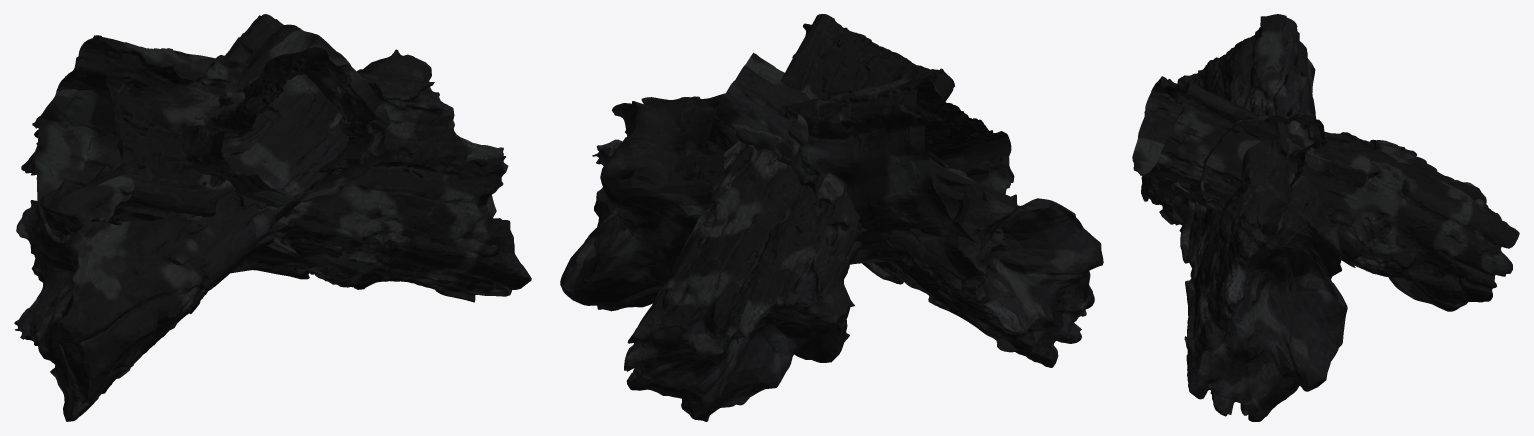
Rendered from carbon_vegetal_v011_ceniza_sutil_candidato.glb.
The picture shows the model from 3 angles, left to right: view 1: azimuth 30°, elevation 25°; view 2: azimuth 150°, elevation 25°; view 3: azimuth 270°, elevation 25°; orthographic projection. The views are drawn at different scales.
Visible parts, largest first — view 1: 01_carbon_base, 03_carbon_diagonal, 02_carbon_cross; view 2: 02_carbon_cross, 01_carbon_base, 03_carbon_diagonal; view 3: 01_carbon_base, 02_carbon_cross, 03_carbon_diagonal.
Boxes of the visible parts, x1,y1,x2,y2 form: 01_carbon_base: [34, 35, 531, 302]; 03_carbon_diagonal: [14, 14, 390, 421]; 02_carbon_cross: [21, 47, 385, 207]; 02_carbon_cross: [624, 14, 954, 421]; 01_carbon_base: [560, 75, 1014, 311]; 03_carbon_diagonal: [704, 52, 1103, 367]; 01_carbon_base: [1177, 14, 1347, 421]; 02_carbon_cross: [1132, 76, 1519, 311]; 03_carbon_diagonal: [1141, 109, 1325, 231].
Size of the model in its own units: 1.86 by 1.21 by 1.57.
1 material, 1 textured.
